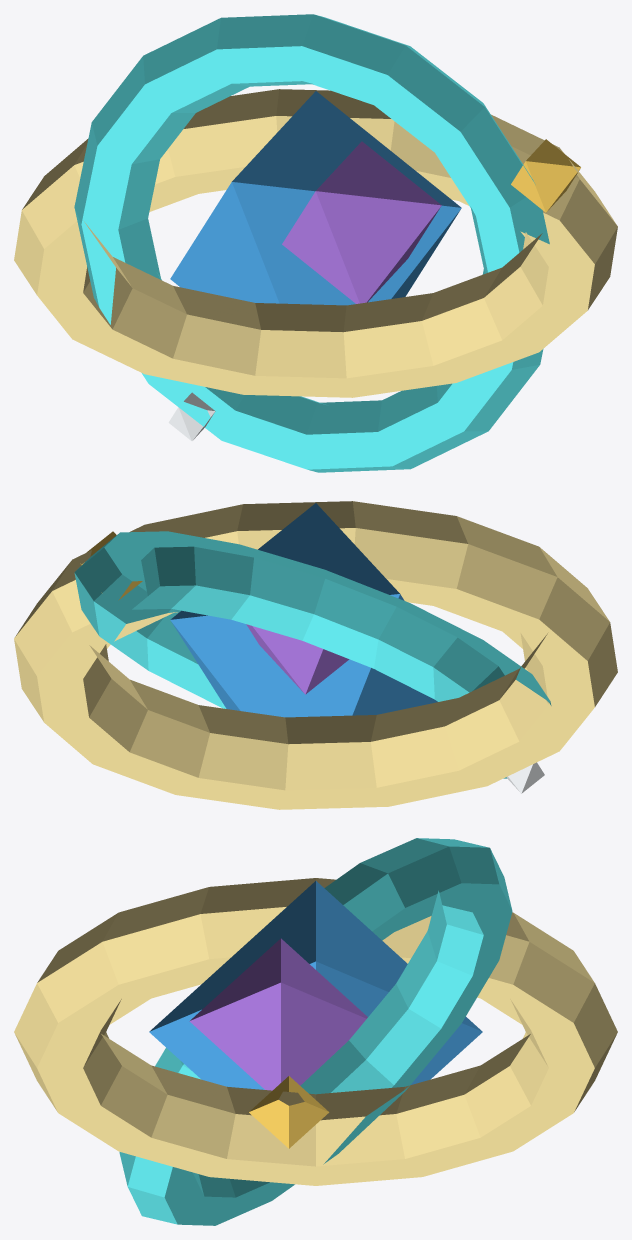
Rendered from minglora_cosmic_orbit.gltf.
3 views of the same model, one above another, from view 1: azimuth 30°, elevation 25°; view 2: azimuth 150°, elevation 25°; view 3: azimuth 270°, elevation 25° (orthographic).
Parts seen in each view (by area): view 1: minglora_cosmic_orbit_part_2, minglora_cosmic_orbit_part_3, minglora_cosmic_orbit_part_0, minglora_cosmic_orbit_part_1, minglora_cosmic_orbit_part_4, minglora_cosmic_orbit_part_5; view 2: minglora_cosmic_orbit_part_2, minglora_cosmic_orbit_part_3, minglora_cosmic_orbit_part_0, minglora_cosmic_orbit_part_1, minglora_cosmic_orbit_part_5; view 3: minglora_cosmic_orbit_part_2, minglora_cosmic_orbit_part_3, minglora_cosmic_orbit_part_0, minglora_cosmic_orbit_part_1, minglora_cosmic_orbit_part_4.
Boxes of the visible parts, bbox=[...] form: minglora_cosmic_orbit_part_2: bbox=[14, 89, 617, 397]; minglora_cosmic_orbit_part_3: bbox=[74, 14, 549, 472]; minglora_cosmic_orbit_part_0: bbox=[170, 91, 461, 305]; minglora_cosmic_orbit_part_1: bbox=[282, 141, 441, 303]; minglora_cosmic_orbit_part_4: bbox=[511, 139, 580, 212]; minglora_cosmic_orbit_part_5: bbox=[168, 392, 215, 440]; minglora_cosmic_orbit_part_2: bbox=[14, 501, 617, 809]; minglora_cosmic_orbit_part_3: bbox=[74, 531, 551, 778]; minglora_cosmic_orbit_part_0: bbox=[170, 503, 437, 717]; minglora_cosmic_orbit_part_1: bbox=[246, 624, 349, 694]; minglora_cosmic_orbit_part_5: bbox=[506, 762, 544, 793]; minglora_cosmic_orbit_part_2: bbox=[14, 878, 617, 1185]; minglora_cosmic_orbit_part_3: bbox=[119, 838, 512, 1225]; minglora_cosmic_orbit_part_0: bbox=[149, 881, 482, 1089]; minglora_cosmic_orbit_part_1: bbox=[189, 938, 367, 1090]; minglora_cosmic_orbit_part_4: bbox=[249, 1076, 329, 1148].
Bounding box in the file's own units: 2.24 × 1.36 × 2.24.
